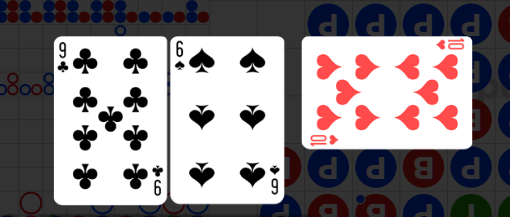10H: (434, 39, 466, 53)
6S: (268, 163, 281, 196)
9C: (57, 41, 71, 75)
